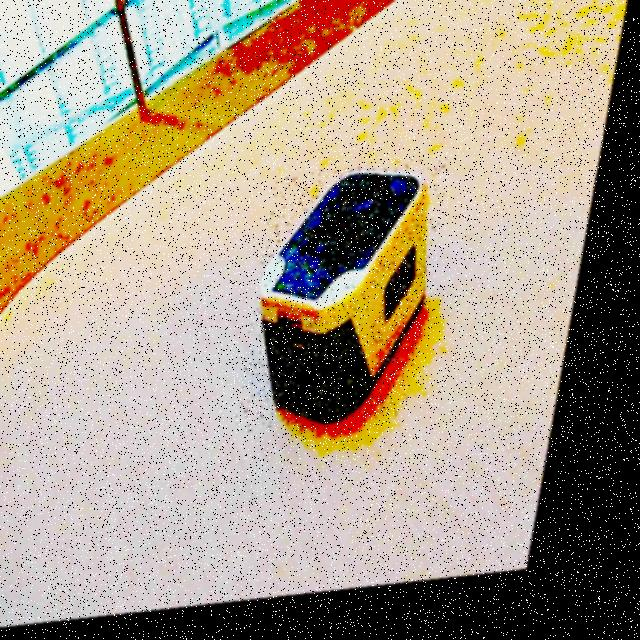adapter: (248, 166, 459, 442)
